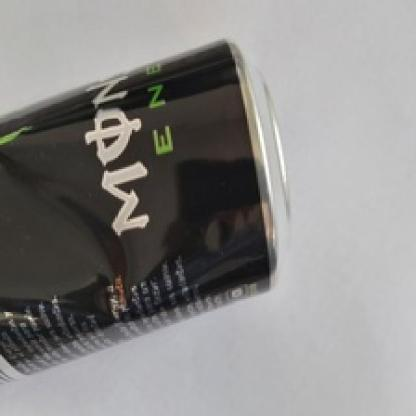Can: (0, 40, 292, 380)
